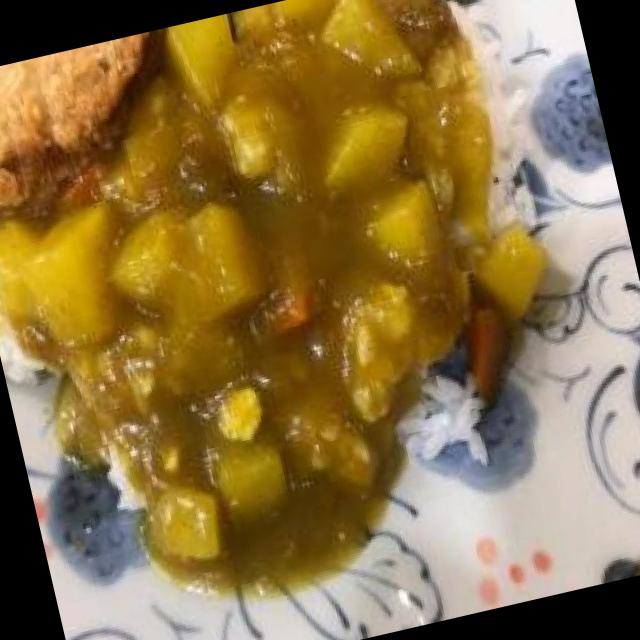curry: (0, 0, 578, 622)
